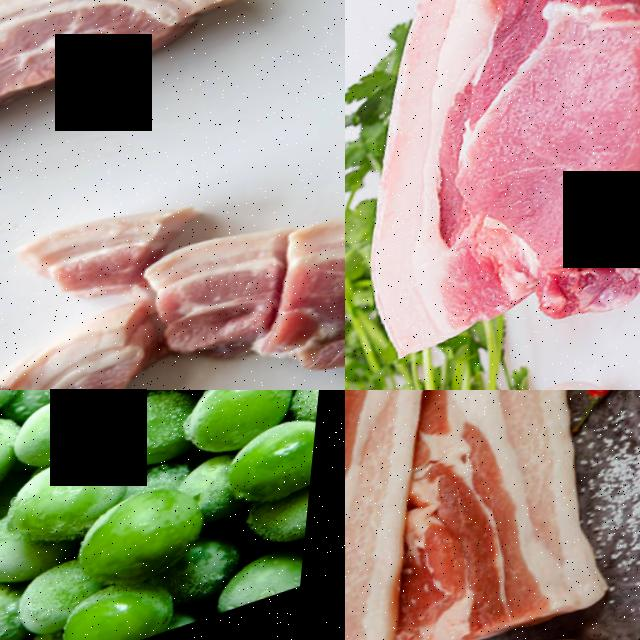peas: (0, 390, 345, 640)
pork belly: (345, 0, 640, 376), (345, 390, 624, 640), (0, 0, 251, 180), (143, 216, 313, 389), (7, 186, 209, 329), (345, 390, 455, 640), (244, 187, 345, 390), (44, 299, 172, 390)
